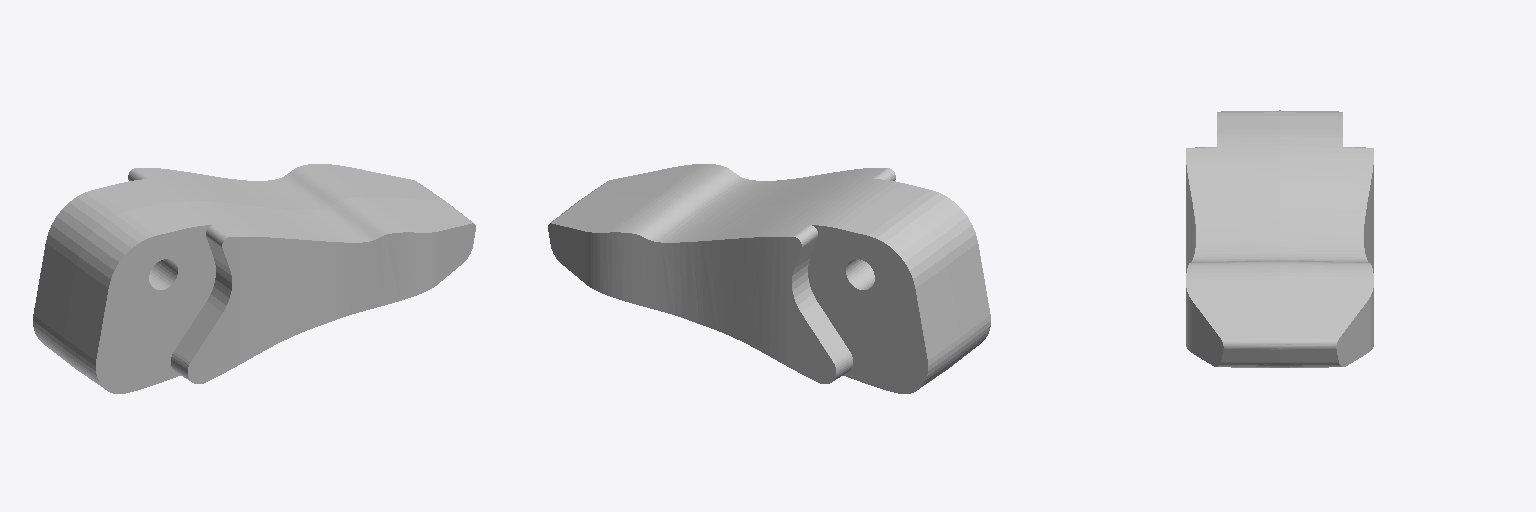
Rendered from finger_distal.obj.
3 renders of one model, left to right at view 1: azimuth 30°, elevation 25°; view 2: azimuth 150°, elevation 25°; view 3: azimuth 270°, elevation 25°, orthographic.
Size of the model in its own units: 0.0532 by 0.0201 by 0.0225.